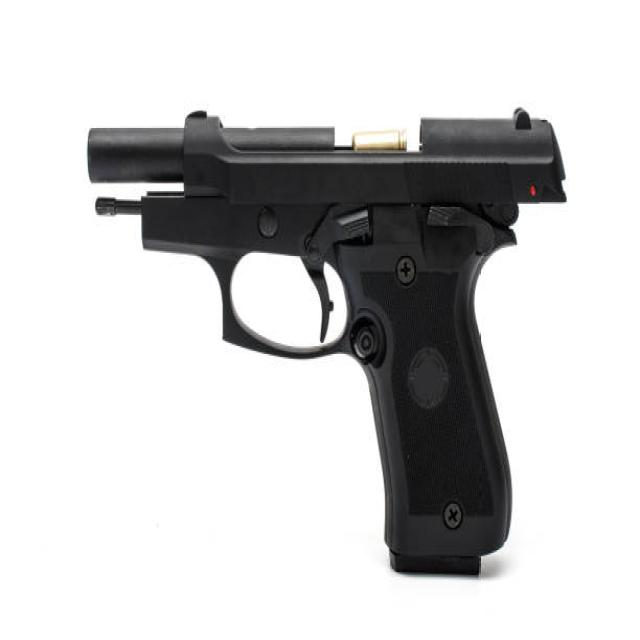pistol: (82, 99, 579, 591)
